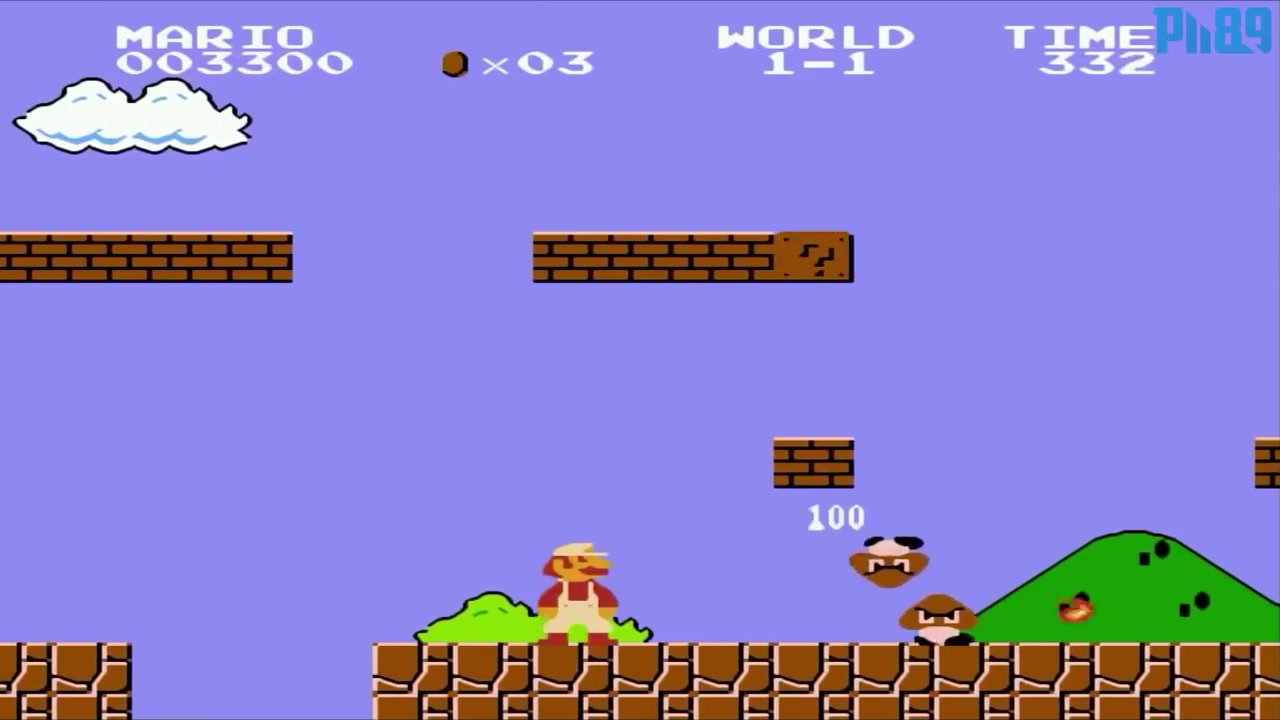mario: (526, 535, 624, 648)
